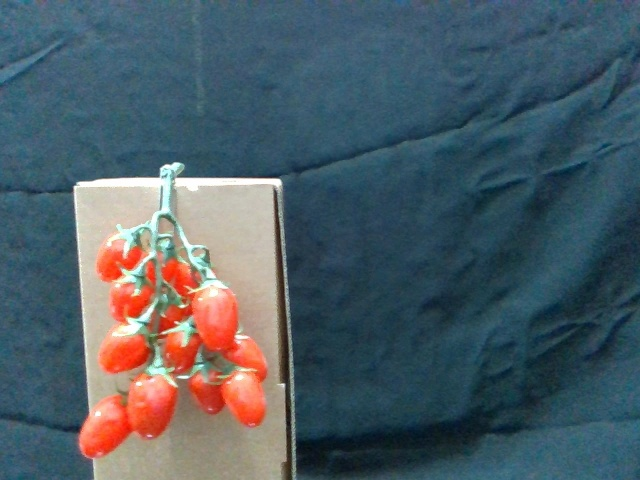tomato: (131, 366, 178, 441), (77, 397, 131, 459), (196, 279, 238, 350), (222, 365, 268, 426), (101, 319, 152, 374), (110, 269, 154, 326), (187, 365, 229, 418), (98, 231, 141, 282), (224, 331, 269, 378), (165, 322, 200, 374)
